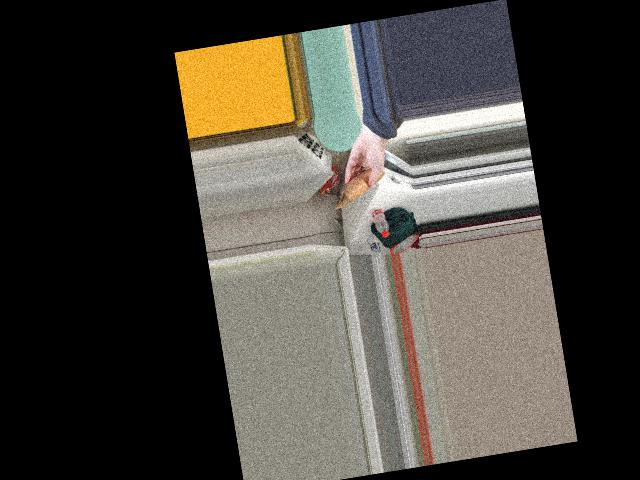sweet_potato: (345, 165, 381, 198)
